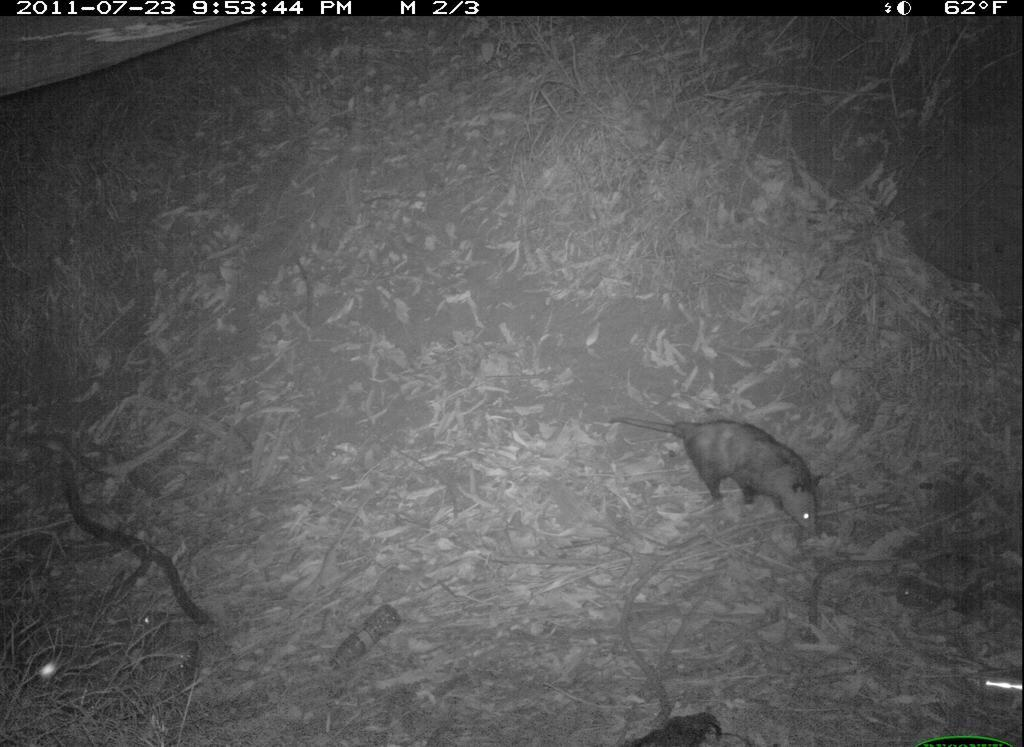opossum: (607, 400, 841, 537)
